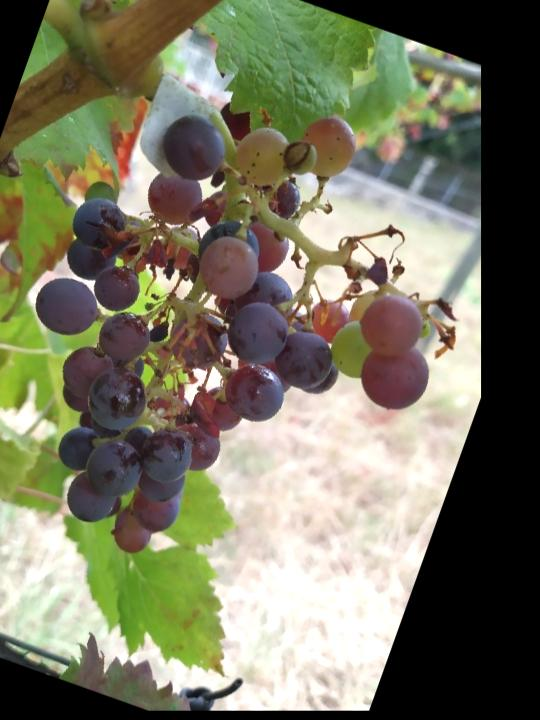grape: (0, 34, 507, 633)
